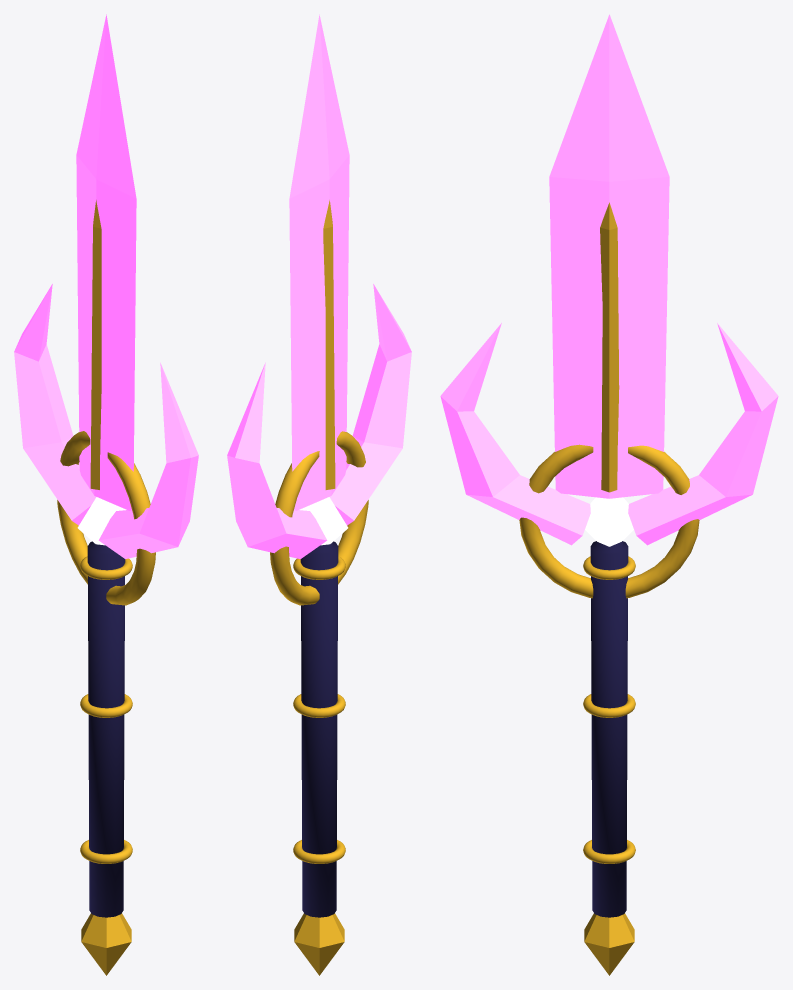
File: weapon_astral_halberd.glb
3 renders of one model, left to right at view 1: azimuth 30°, elevation 25°; view 2: azimuth 150°, elevation 25°; view 3: azimuth 270°, elevation 25°, orthographic.
Parts seen in each view (by area): view 1: SpearMainBlade, PoleShaft, CrescentWing_1, CrescentWing_-1, AstrolabeRing, SpearCoreSpine, TailSpike, AstrolabeStar, ShaftBand_0.18, ShaftBand_-0.18, ShaftBand_0.52; view 2: SpearMainBlade, PoleShaft, CrescentWing_-1, CrescentWing_1, AstrolabeRing, SpearCoreSpine, TailSpike, AstrolabeStar, ShaftBand_0.18, ShaftBand_-0.18, ShaftBand_0.52; view 3: SpearMainBlade, PoleShaft, CrescentWing_1, CrescentWing_-1, AstrolabeRing, SpearCoreSpine, TailSpike, AstrolabeStar.
Part boxes in pixels (<box>): SpearMainBlade: <box>76,14,136,510</box>; PoleShaft: <box>87,541,125,917</box>; CrescentWing_1: <box>14,284,96,525</box>; CrescentWing_-1: <box>98,362,198,559</box>; AstrolabeRing: <box>57,431,155,605</box>; SpearCoreSpine: <box>90,200,101,489</box>; TailSpike: <box>81,913,131,975</box>; AstrolabeStar: <box>77,497,126,545</box>; ShaftBand_0.18: <box>80,694,132,717</box>; ShaftBand_-0.18: <box>80,840,132,863</box>; ShaftBand_0.52: <box>80,556,132,579</box>; SpearMainBlade: <box>289,14,349,510</box>; PoleShaft: <box>300,541,338,917</box>; CrescentWing_-1: <box>329,284,411,525</box>; CrescentWing_1: <box>227,362,327,559</box>; AstrolabeRing: <box>270,431,368,605</box>; SpearCoreSpine: <box>323,200,335,489</box>; TailSpike: <box>294,913,344,975</box>; AstrolabeStar: <box>299,497,348,545</box>; ShaftBand_0.18: <box>293,694,345,717</box>; ShaftBand_-0.18: <box>293,840,345,863</box>; ShaftBand_0.52: <box>293,556,345,579</box>; SpearMainBlade: <box>549,14,669,498</box>; PoleShaft: <box>590,541,628,917</box>; CrescentWing_1: <box>628,323,778,545</box>; CrescentWing_-1: <box>440,323,590,545</box>; AstrolabeRing: <box>519,444,699,598</box>; SpearCoreSpine: <box>600,202,619,492</box>; TailSpike: <box>584,913,634,975</box>; AstrolabeStar: <box>585,497,633,546</box>.
Size of the model in its own units: 0.15 by 2.37 by 0.7551.
